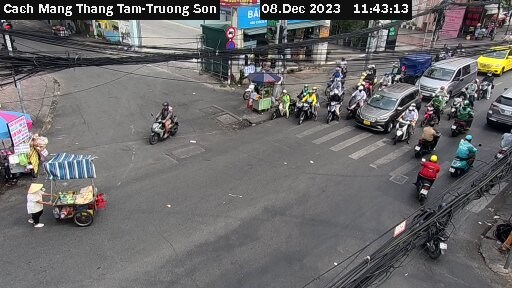car: (358, 80, 419, 133), (419, 56, 478, 99), (478, 42, 512, 75), (488, 82, 512, 127)
motorbike: (142, 101, 193, 146), (409, 206, 457, 253), (413, 159, 444, 199), (450, 140, 479, 177), (394, 102, 419, 140), (413, 127, 442, 156), (456, 81, 484, 105), (453, 106, 473, 135), (325, 93, 347, 119), (422, 93, 440, 123), (345, 89, 367, 112), (298, 93, 318, 118), (478, 75, 498, 99)
